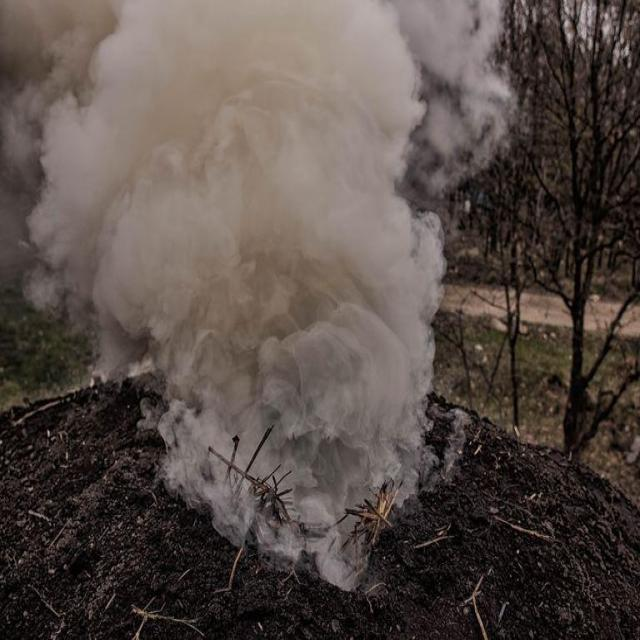Smoke: (0, 1, 522, 592)
